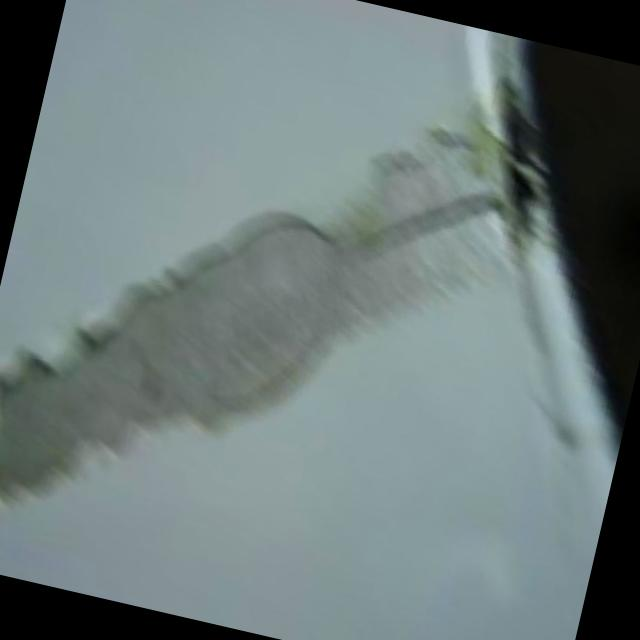crack: (411, 179, 498, 244), (334, 218, 408, 277)
